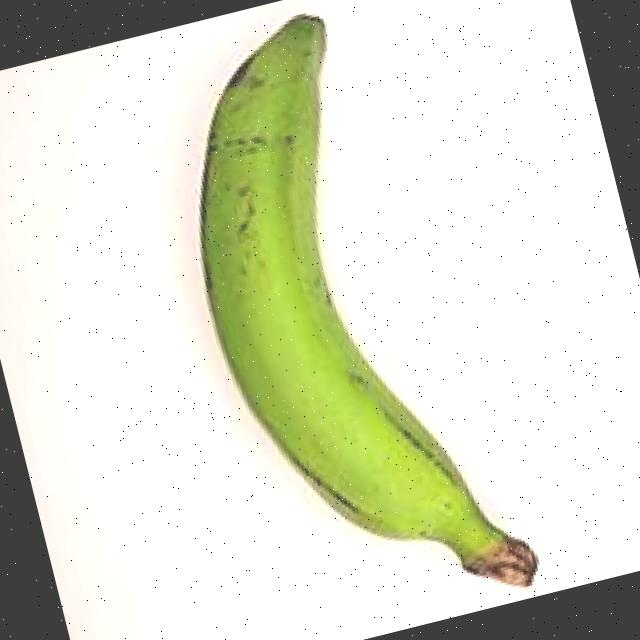Raw: (101, 0, 602, 640)
